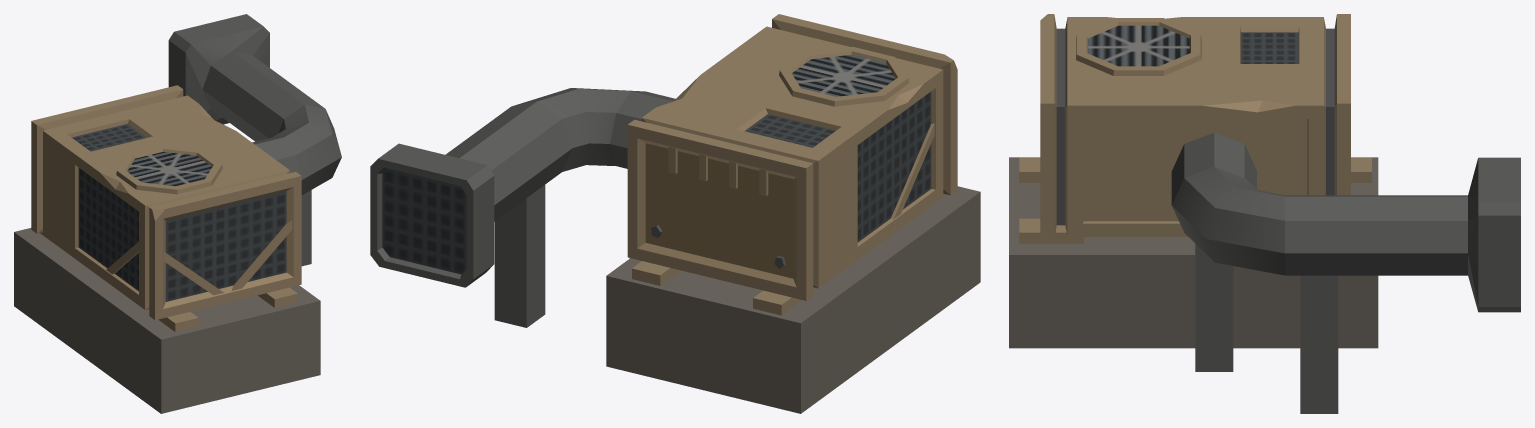
Rendered from SM_Prop_Airvent_02.glb.
The picture shows the model from 3 angles, left to right: view 1: azimuth 30°, elevation 25°; view 2: azimuth 150°, elevation 25°; view 3: azimuth 270°, elevation 25°; orthographic projection. The views are drawn at different scales.
Visible parts, largest first — view 1: SM_Prop_Airvent_02; view 2: SM_Prop_Airvent_02; view 3: SM_Prop_Airvent_02.
Part boxes in pixels (x1=…): SM_Prop_Airvent_02: x1=14, y1=14, x2=341, y2=413; SM_Prop_Airvent_02: x1=370, y1=14, x2=980, y2=413; SM_Prop_Airvent_02: x1=1009, y1=14, x2=1520, y2=413.
Size of the model in its own units: 2.22 by 1.39 by 2.65.
1 material, 1 textured.
